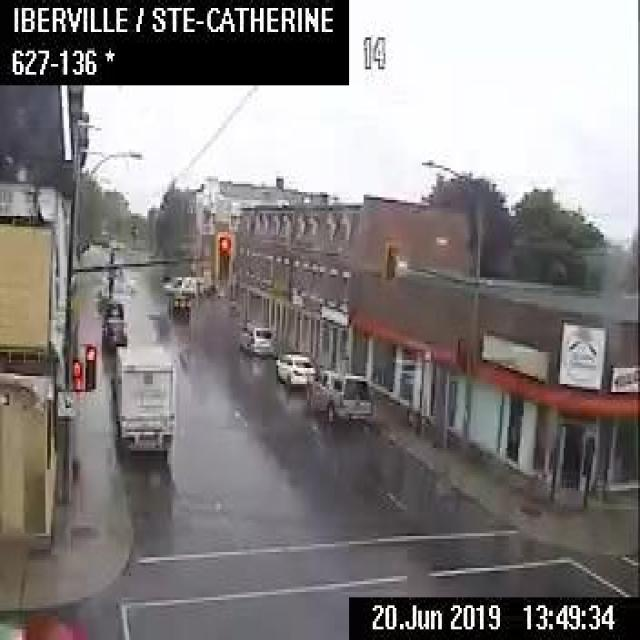vehicle: (109, 344, 173, 455), (305, 368, 377, 422), (0, 611, 89, 637), (274, 349, 316, 386), (240, 324, 274, 354), (162, 273, 203, 294), (100, 314, 126, 344), (167, 289, 190, 315), (101, 297, 122, 319)
